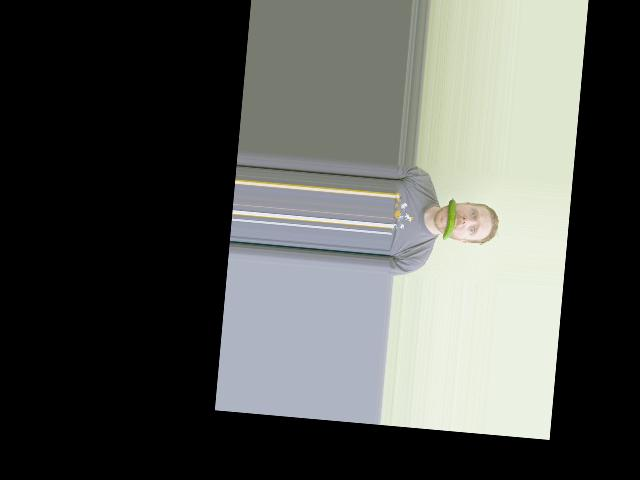cucumber: (442, 197, 456, 241)
